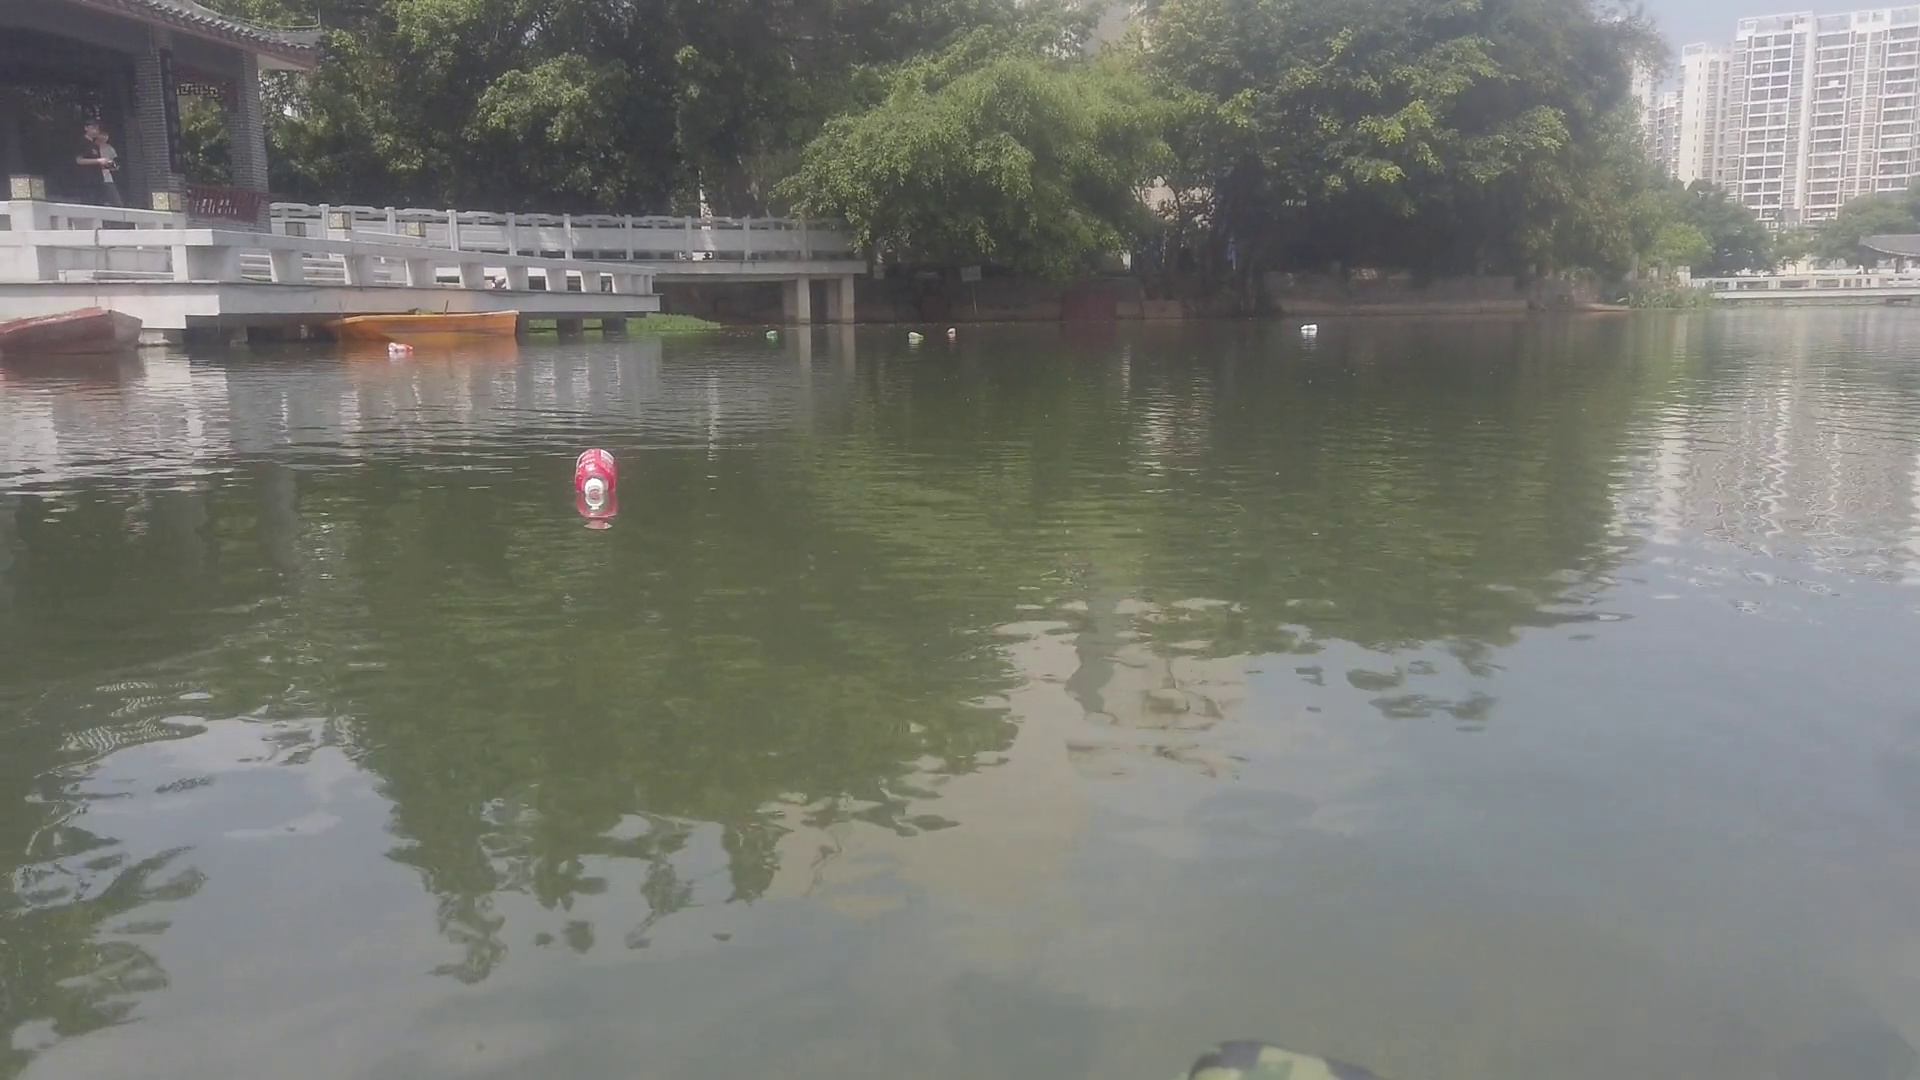bottle: (567, 440, 622, 502), (386, 340, 415, 355), (1296, 320, 1320, 334), (905, 328, 924, 343), (942, 323, 959, 335), (762, 323, 775, 338)
